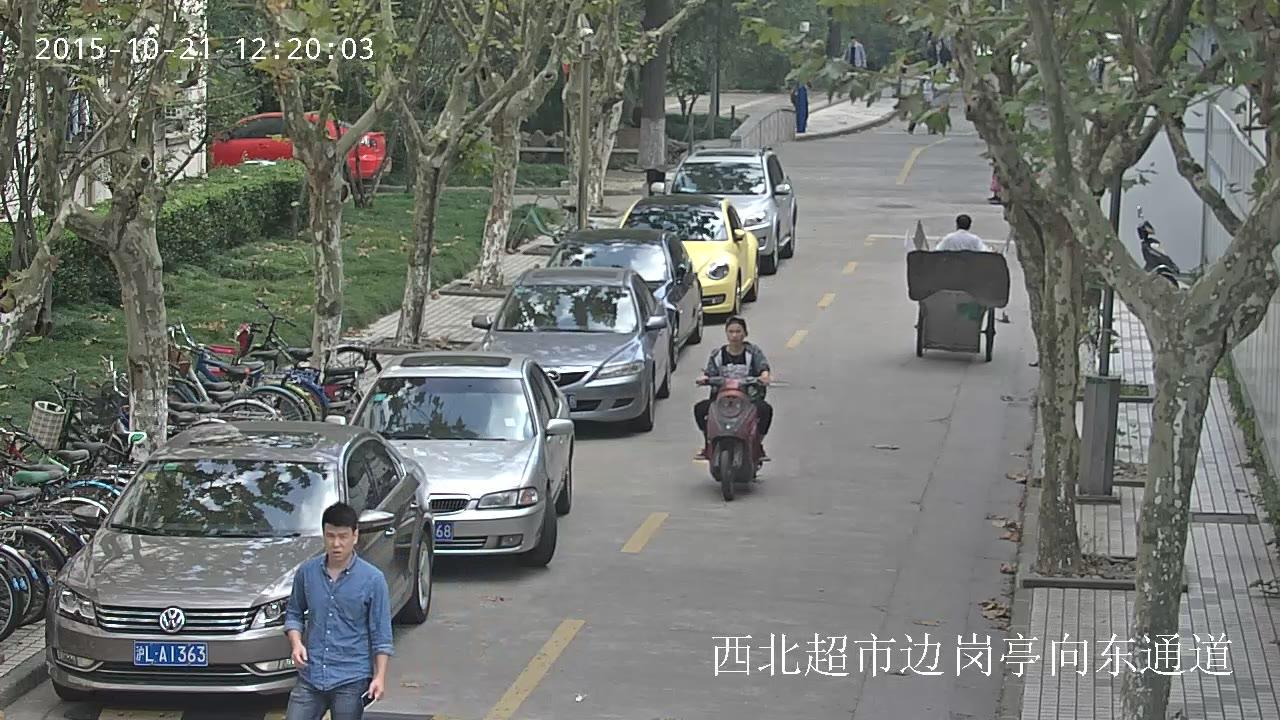person: (283, 502, 393, 720), (693, 316, 772, 501), (693, 316, 773, 461), (934, 213, 987, 328), (934, 213, 987, 250), (790, 79, 807, 132), (845, 36, 865, 68), (939, 37, 951, 65)
